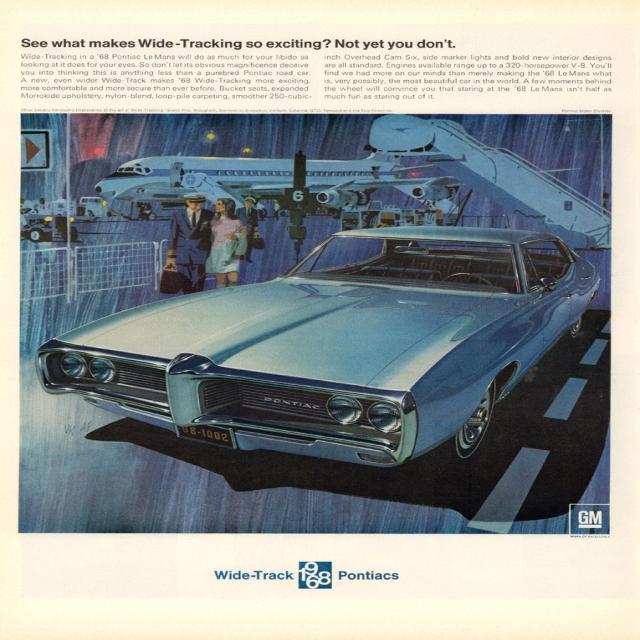car: (36, 228, 604, 472)
